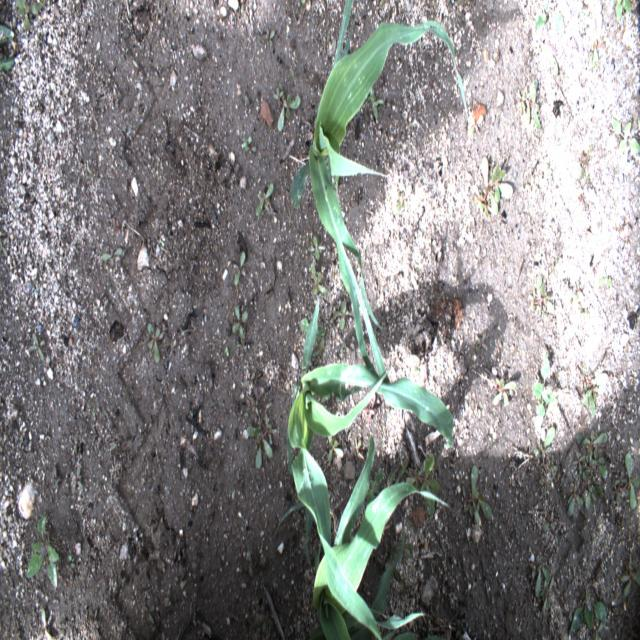crop: (290, 0, 468, 414), (274, 298, 454, 640), (310, 434, 450, 640), (393, 632, 418, 640), (384, 624, 396, 639), (426, 635, 442, 639)
weed: (473, 154, 514, 217), (400, 453, 440, 517), (26, 513, 59, 590), (568, 584, 608, 636), (531, 353, 558, 421), (246, 413, 278, 469), (462, 464, 492, 523), (516, 82, 542, 131), (528, 274, 554, 320), (620, 452, 640, 509), (575, 430, 608, 464), (612, 118, 640, 157), (584, 372, 608, 417), (534, 1, 564, 36), (588, 14, 606, 70), (16, 0, 46, 33), (487, 377, 516, 407), (146, 322, 166, 363), (531, 558, 551, 598), (588, 441, 608, 479), (620, 562, 640, 598), (535, 426, 556, 458), (255, 182, 274, 217), (384, 547, 402, 582), (35, 606, 53, 640), (311, 261, 328, 296), (369, 82, 384, 121), (232, 304, 248, 339), (366, 472, 384, 503), (579, 144, 593, 183), (566, 486, 583, 516), (307, 234, 326, 260), (584, 484, 603, 510), (232, 251, 246, 286), (542, 576, 555, 613), (327, 433, 344, 461), (300, 320, 326, 338), (334, 300, 349, 331), (284, 92, 301, 118), (102, 246, 123, 267), (612, 0, 631, 23), (30, 332, 45, 361), (547, 40, 559, 76), (277, 80, 285, 131), (252, 616, 274, 634), (579, 455, 593, 482), (315, 390, 331, 412), (548, 256, 564, 278), (71, 468, 83, 496), (469, 114, 485, 135), (572, 450, 586, 474), (593, 616, 607, 639), (394, 544, 414, 560), (546, 456, 558, 481), (474, 329, 487, 352), (142, 603, 156, 624), (542, 510, 554, 534), (612, 478, 624, 502), (0, 23, 15, 42), (312, 334, 324, 357), (525, 175, 538, 195), (580, 360, 592, 381), (244, 370, 256, 390), (540, 477, 552, 497), (52, 466, 62, 489), (250, 396, 260, 419), (614, 470, 628, 486), (573, 292, 583, 314), (549, 522, 559, 544), (272, 86, 284, 104), (355, 436, 364, 460), (0, 57, 15, 71), (540, 576, 548, 602), (246, 548, 253, 576), (395, 467, 404, 487), (266, 27, 275, 46), (0, 237, 8, 257), (570, 568, 578, 588), (455, 619, 463, 638), (263, 400, 272, 416), (600, 276, 612, 288), (396, 194, 403, 214), (238, 409, 248, 422), (68, 554, 76, 570), (132, 57, 139, 75), (322, 34, 330, 49), (290, 66, 296, 85), (331, 174, 338, 190), (292, 50, 299, 64), (244, 136, 252, 148), (244, 145, 256, 153), (386, 474, 394, 486), (74, 443, 78, 456), (225, 345, 229, 357), (428, 618, 430, 632), (302, 0, 305, 4)
